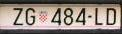-: (88, 15, 93, 19)
4: (50, 8, 63, 26), (75, 8, 86, 26)
8: (64, 8, 74, 26)
D: (106, 7, 117, 26)
G: (26, 7, 35, 26)
L: (94, 7, 104, 26)
Z: (13, 7, 25, 25)
